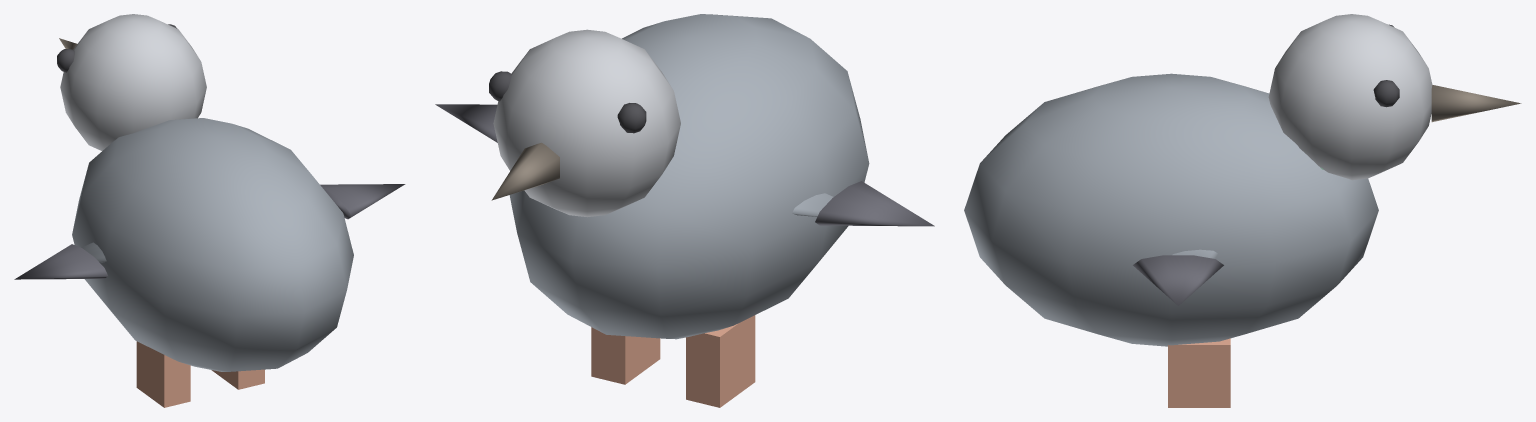
The picture shows the model from 3 angles, left to right: view 1: azimuth 30°, elevation 25°; view 2: azimuth 150°, elevation 25°; view 3: azimuth 270°, elevation 25°; orthographic projection. The views are drawn at different scales.
Parts seen in each view (by area): view 1: Body, Head, FootL, WingTipL, WingTipR, FootR; view 2: Body, Head, FootL, WingTipL, FootR, Beak, WingTipR, EyeL, WingInnerL, EyeR; view 3: Body, Head, FootR, WingTipR, Beak, EyeR.
Part boxes in pixels (box(x1,y1,x2,y2)): Body: box(72, 118, 353, 371); Head: box(60, 14, 206, 150); FootL: box(136, 341, 190, 407); WingTipL: box(14, 244, 107, 279); WingTipR: box(320, 184, 405, 219); FootR: box(211, 369, 264, 389); Body: box(509, 14, 869, 339); Head: box(493, 29, 680, 217); FootL: box(686, 315, 755, 407); WingTipL: box(815, 181, 934, 226); FootR: box(591, 327, 660, 384); Beak: box(491, 142, 559, 200); WingTipR: box(435, 104, 497, 142); EyeL: box(617, 103, 646, 133); WingInnerL: box(792, 193, 833, 216); EyeR: box(489, 71, 512, 101); Body: box(964, 73, 1378, 346); Head: box(1268, 14, 1432, 180); FootR: box(1168, 338, 1230, 407); WingTipR: box(1133, 255, 1223, 305); Beak: box(1431, 85, 1521, 122); EyeR: box(1373, 80, 1399, 107).
Bounding box in the file's own units: 0.74 × 0.57 × 0.804.
